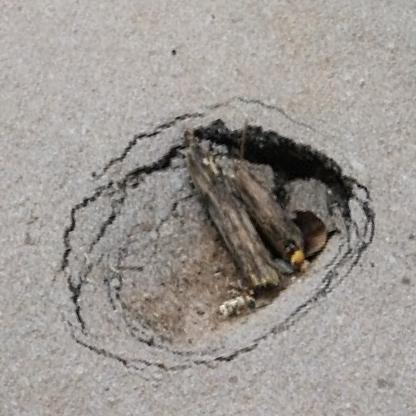pothole: (6, 56, 412, 410)
